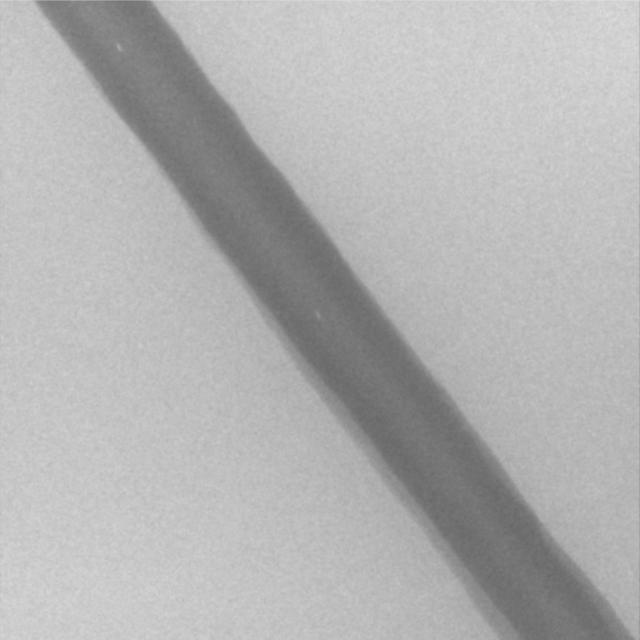air hole: (114, 41, 122, 53), (314, 308, 322, 320)
